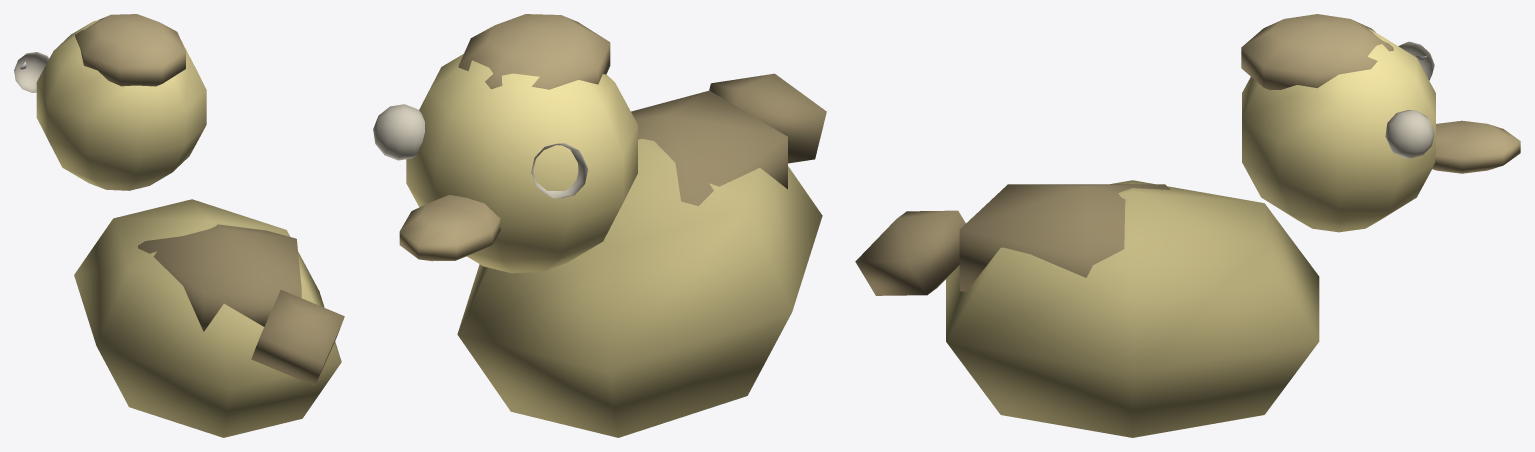
File: duckling.glb
3 renders of one model, left to right at view 1: azimuth 30°, elevation 25°; view 2: azimuth 150°, elevation 25°; view 3: azimuth 270°, elevation 25°, orthographic. The views are drawn at different scales.
Parts seen in each view (by area): view 1: body, head; view 2: body, head; view 3: body, head.
Part boxes in pixels (x1=…): body: x1=74, y1=199, x2=344, y2=437; head: x1=14, y1=14, x2=206, y2=190; body: x1=457, y1=73, x2=826, y2=437; head: x1=373, y1=14, x2=637, y2=273; body: x1=855, y1=180, x2=1319, y2=437; head: x1=1241, y1=14, x2=1520, y2=232.
Bounding box in the file's own units: 0.1 × 0.144 × 0.2161.
